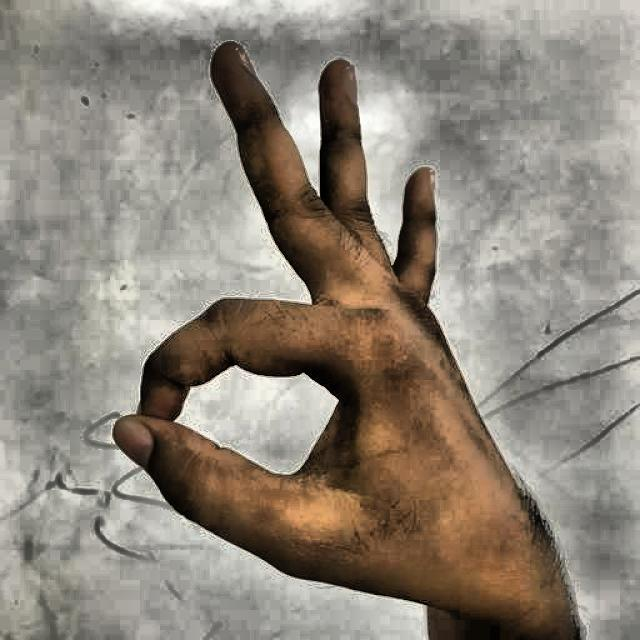Ca: (100, 25, 588, 637)
